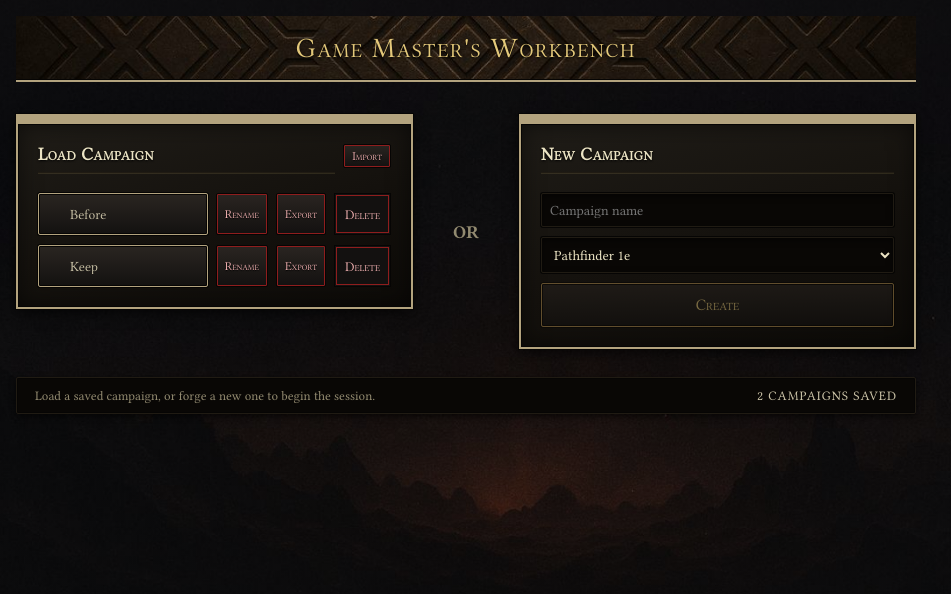
Test: rename can be cancelled with Escape
Click the button with aria-label "Rename Before" at (242, 214), box [216,193,268,235]
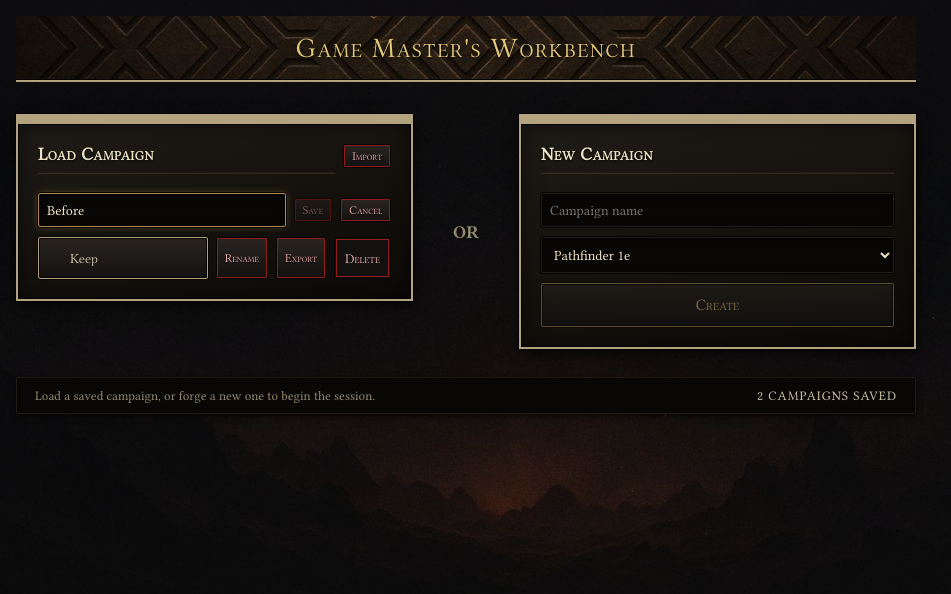
Press Escape in the field named "New campaign name", box [38,193,286,227]
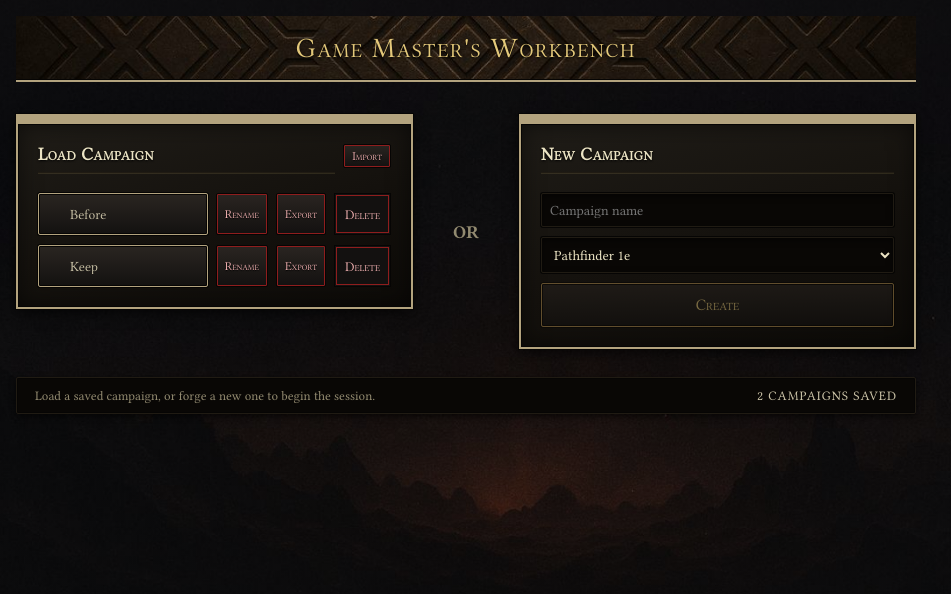
Result: the button with aria-label "Rename Before" is shown at [216,193,268,235]
